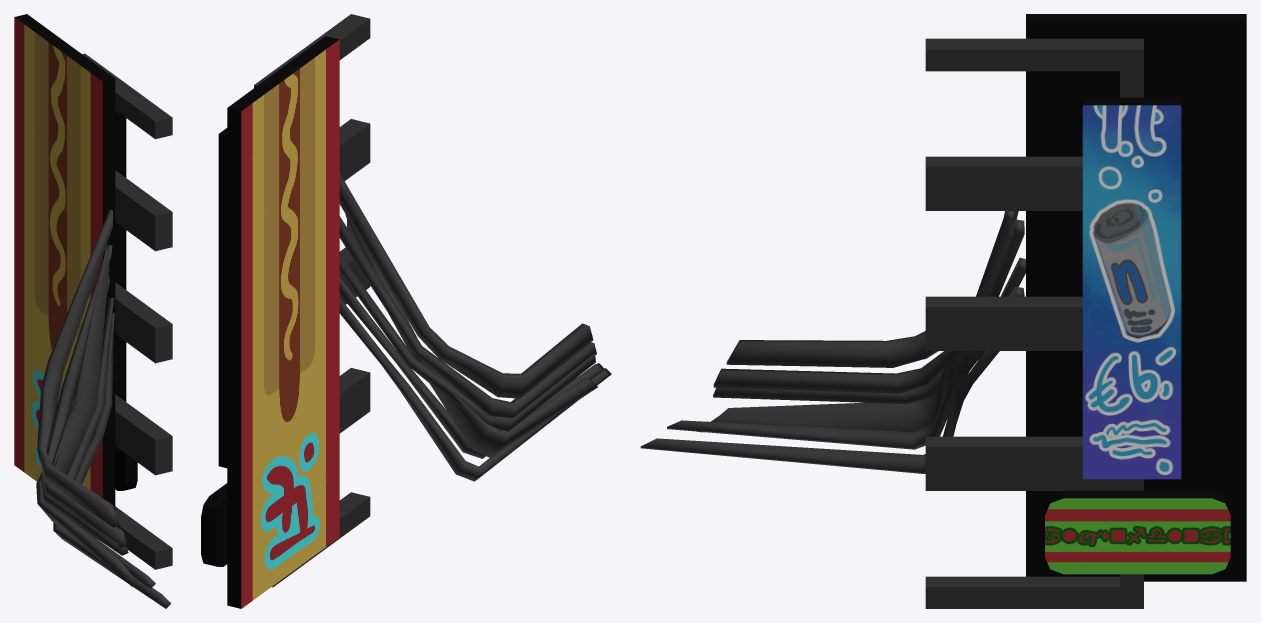
Rendered from Billboards1(test).fbx.
The picture shows the model from 3 angles, left to right: view 1: azimuth 30°, elevation 25°; view 2: azimuth 150°, elevation 25°; view 3: azimuth 270°, elevation 25°; orthographic projection. The views are drawn at different scales.
Visible parts, largest first — view 1: Cube.005, Cube.016, Cube.015; view 2: Cube.005, Cube.016, Cube.015; view 3: Cube.005, Cube.015, Cube.016.
Boxes of the visible parts, x1,y1,x2,y2 form: Cube.005: [14, 14, 137, 510]; Cube.016: [36, 209, 171, 608]; Cube.015: [82, 53, 172, 569]; Cube.005: [201, 36, 339, 608]; Cube.016: [339, 174, 611, 481]; Cube.015: [254, 14, 370, 587]; Cube.005: [1026, 14, 1246, 581]; Cube.015: [925, 38, 1143, 608]; Cube.016: [640, 211, 1025, 473].
Size of the model in its own units: 847 by 2337 by 2225.
